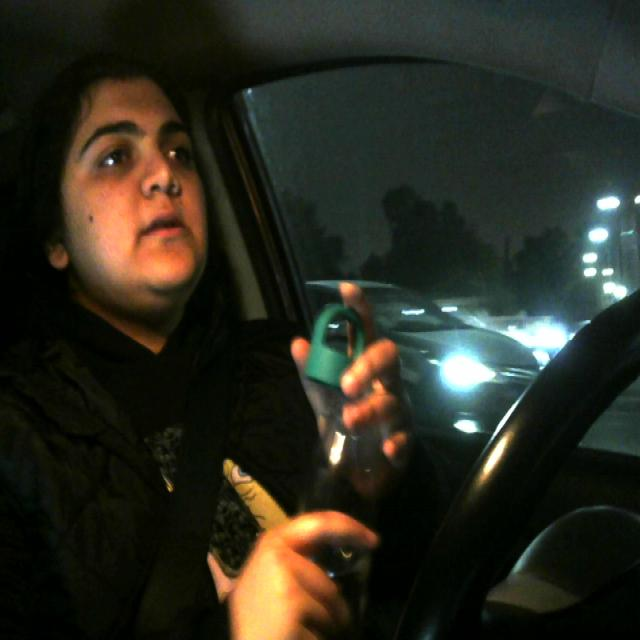mobile use: (283, 296, 374, 604)
